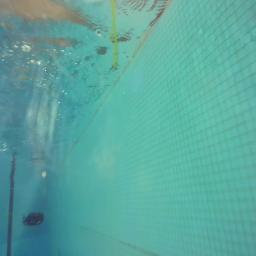Side: (22, 211, 45, 227)
